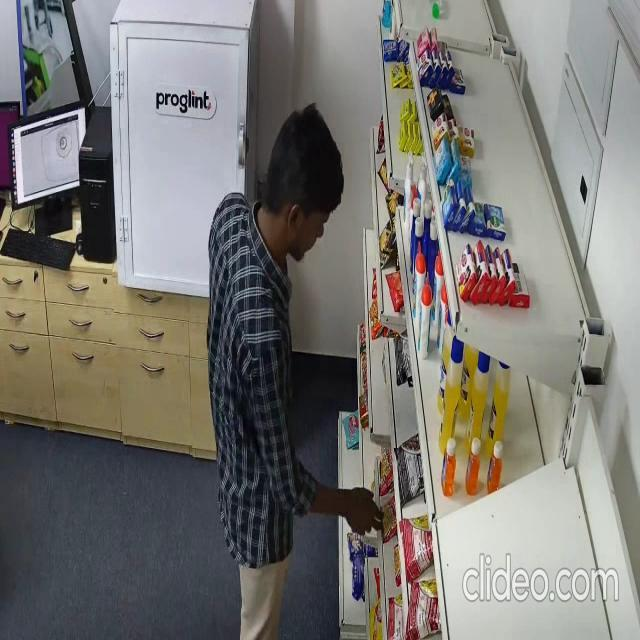normal: (208, 102, 377, 640)
